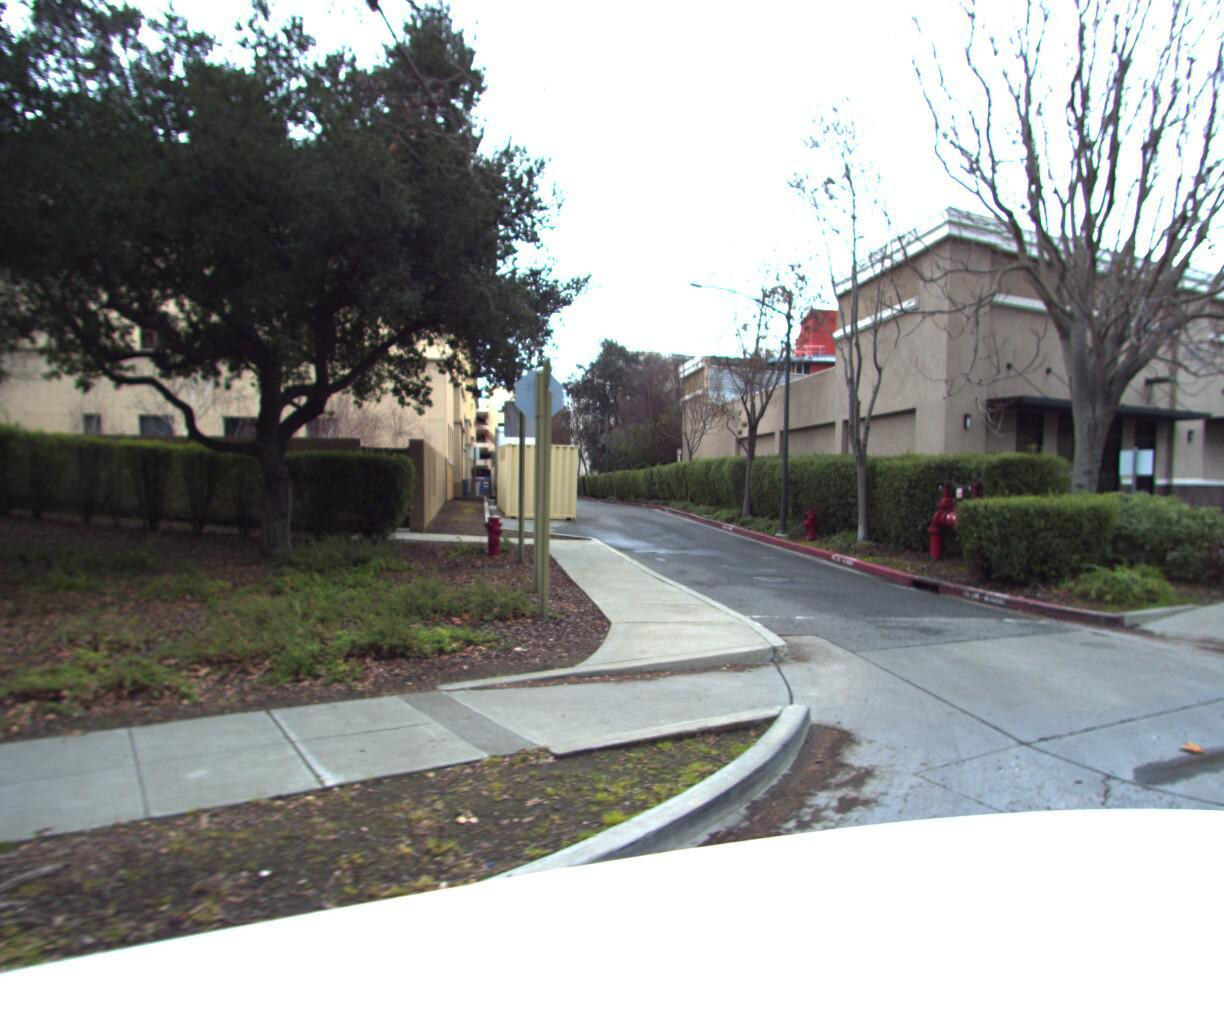truck: (485, 414, 554, 498)
